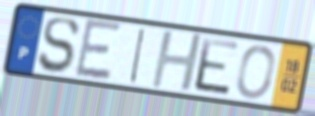E: (72, 16, 123, 82), (193, 35, 242, 98)
H: (149, 30, 205, 93)
I: (127, 26, 148, 86)
O: (234, 44, 278, 101)
S: (36, 16, 81, 75)
